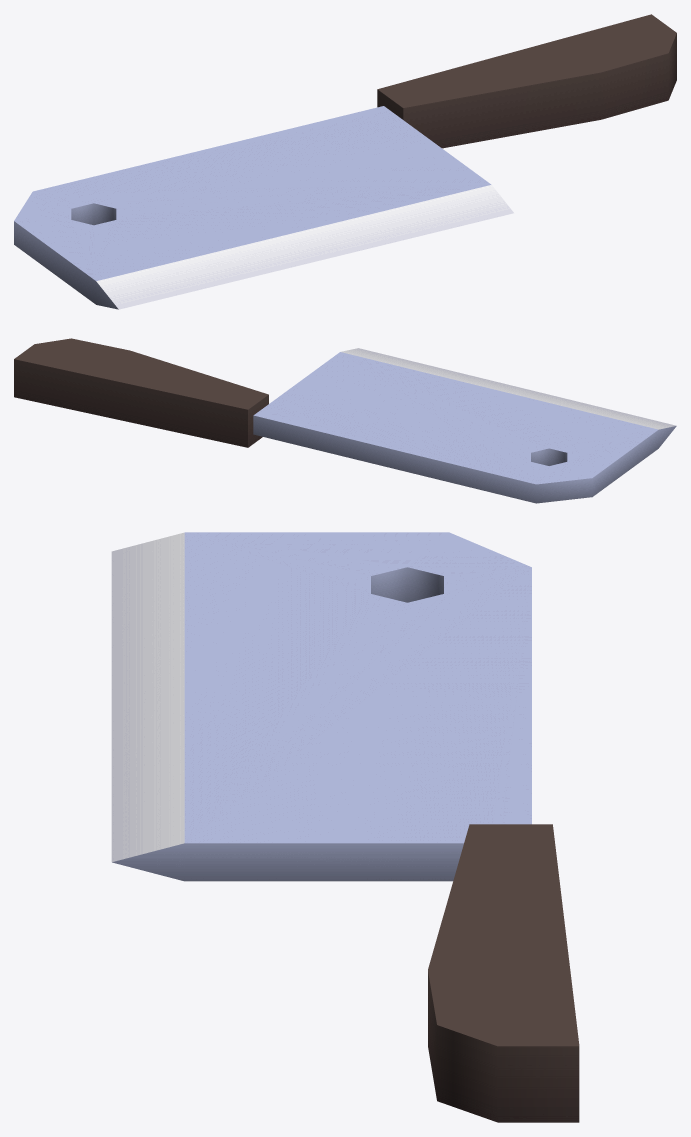
File: cooking-knife-chopping.glb
3 renders of one model, top to bottom at view 1: azimuth 30°, elevation 25°; view 2: azimuth 150°, elevation 25°; view 3: azimuth 270°, elevation 25°, orthographic. The views are drawn at different scales.
Visible parts, largest first — view 1: cooking-knife-chopping; view 2: cooking-knife-chopping; view 3: cooking-knife-chopping.
Part boxes in pixels (<box>): cooking-knife-chopping: <box>14,14,676,309</box>; cooking-knife-chopping: <box>14,338,676,503</box>; cooking-knife-chopping: <box>111,532,579,1122</box>.
Bounding box in the file's own units: 0.6 × 0.04 × 0.2227.
1 material, 1 textured.
